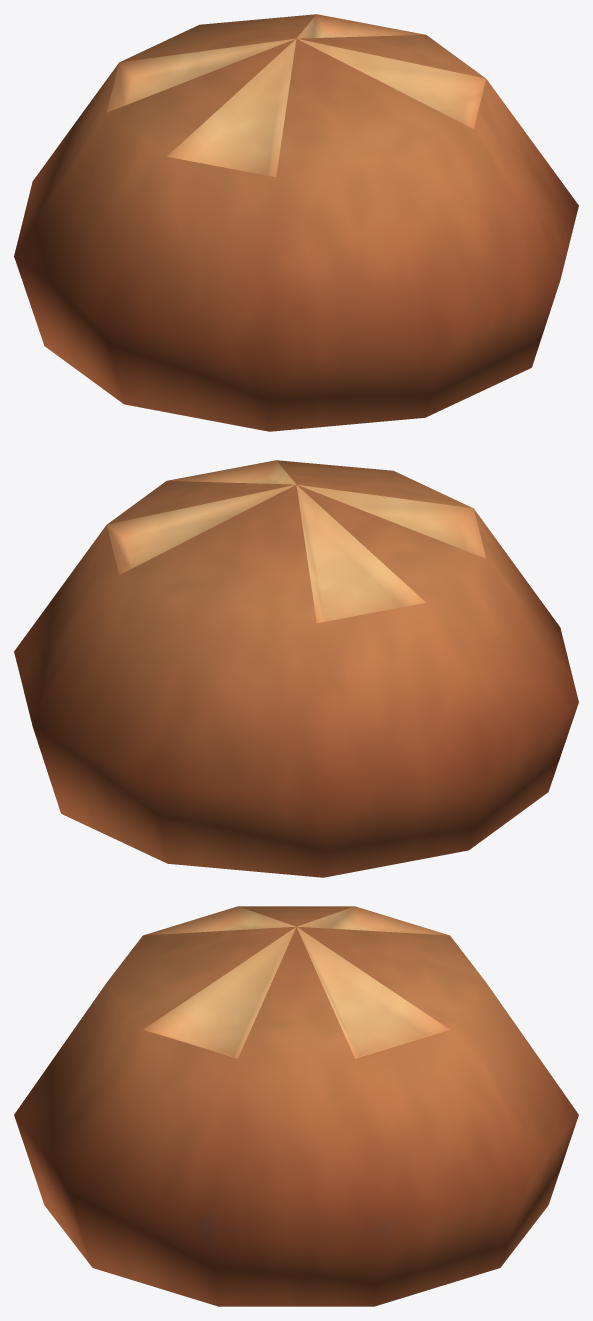
The model's file is Bun_B.FBX.
The picture shows the model from 3 angles, top to bottom: view 1: azimuth 30°, elevation 25°; view 2: azimuth 150°, elevation 25°; view 3: azimuth 270°, elevation 25°; orthographic projection. The views are drawn at different scales.
Visible parts, largest first — view 1: Bun; view 2: Bun; view 3: Bun.
Part boxes in pixels (<box>): Bun: <box>14,14,578,431</box>; Bun: <box>14,460,578,877</box>; Bun: <box>14,906,578,1306</box>.
Bounding box in the file's own units: 58.23 × 33.32 × 61.23.
